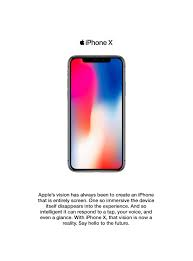iphone: (65, 53, 127, 172)
iphone10: (64, 52, 126, 171)
